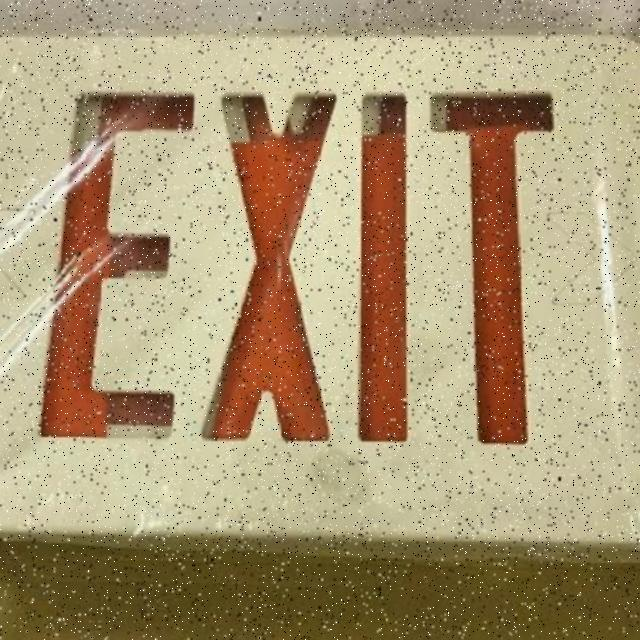emergency_exit: (2, 30, 638, 546), (37, 85, 557, 450), (39, 91, 195, 439), (202, 91, 337, 443), (429, 90, 554, 444), (358, 93, 408, 443)
